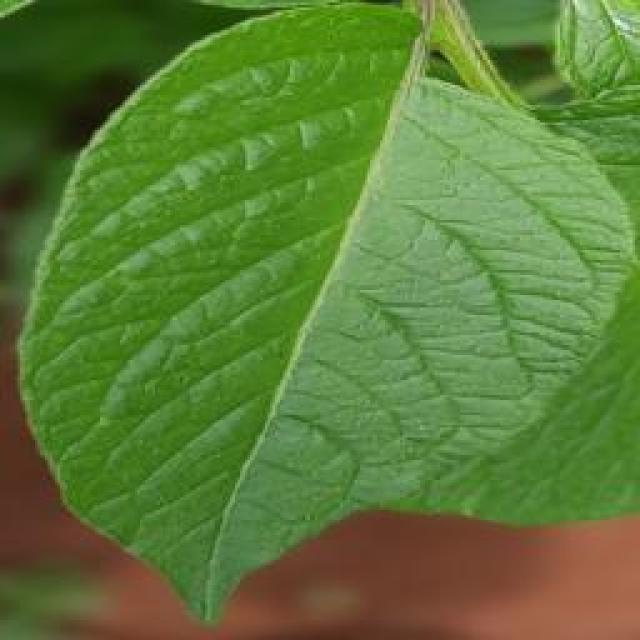healthy: (10, 0, 638, 628)
